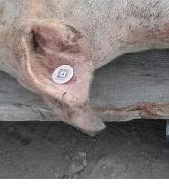text: (46, 52, 83, 93)
